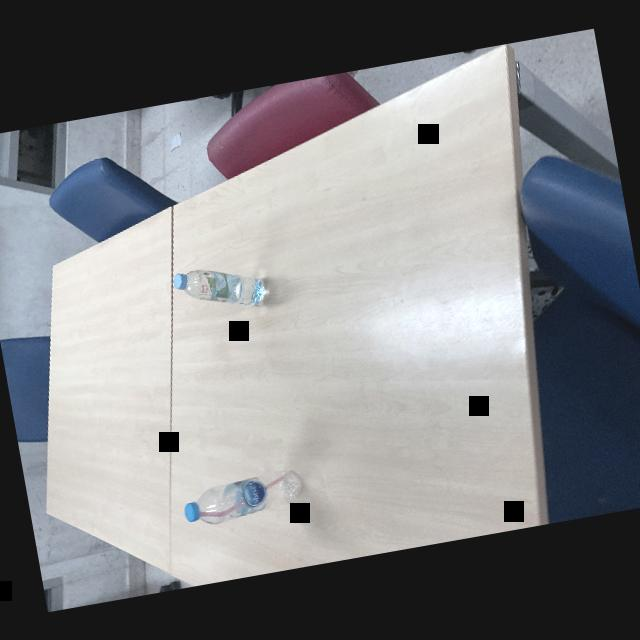plastic_bottle: (176, 466, 310, 530), (168, 258, 270, 324)
plastic_bottle_cap: (181, 501, 200, 522), (170, 273, 188, 291)
straw: (191, 470, 296, 522)
